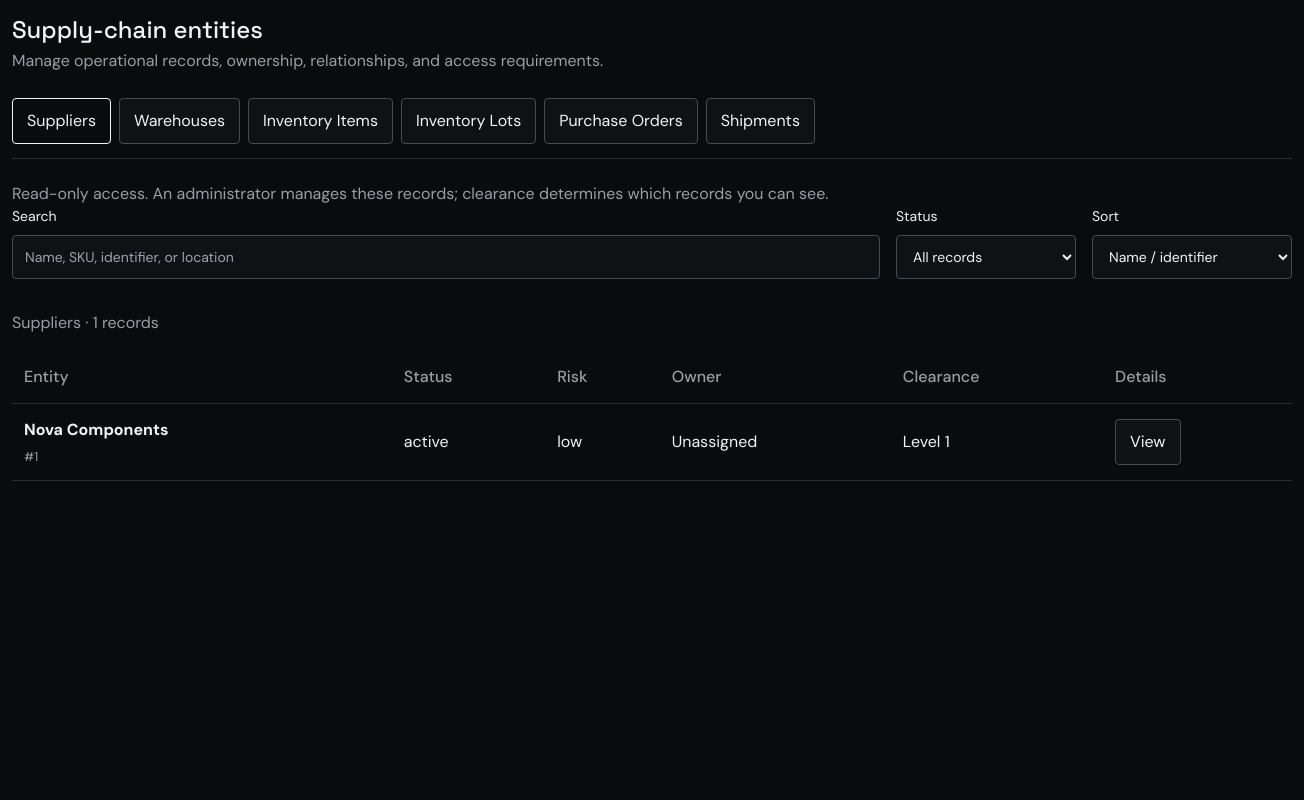
Test case: provides read-only views without mutation controls
Click the button with aria-label "View Nova Components": (1148, 442) [1115, 419, 1180, 465]
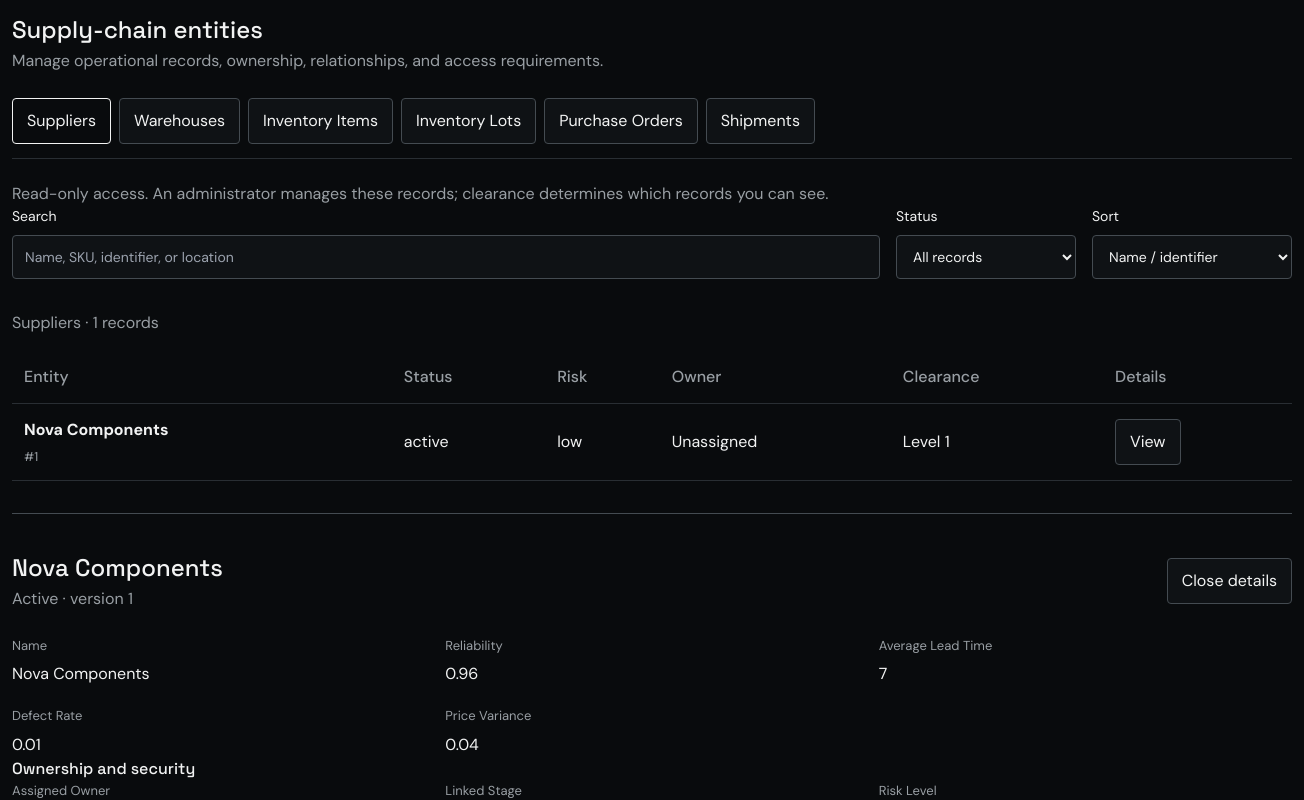
Expected: the heading "Ownership and security" is shown, [12, 758, 195, 779]
Expected: the text "Assigned owner" is shown, [12, 782, 110, 799]
Expected: the text "Linked stage" is shown, [445, 782, 522, 799]
